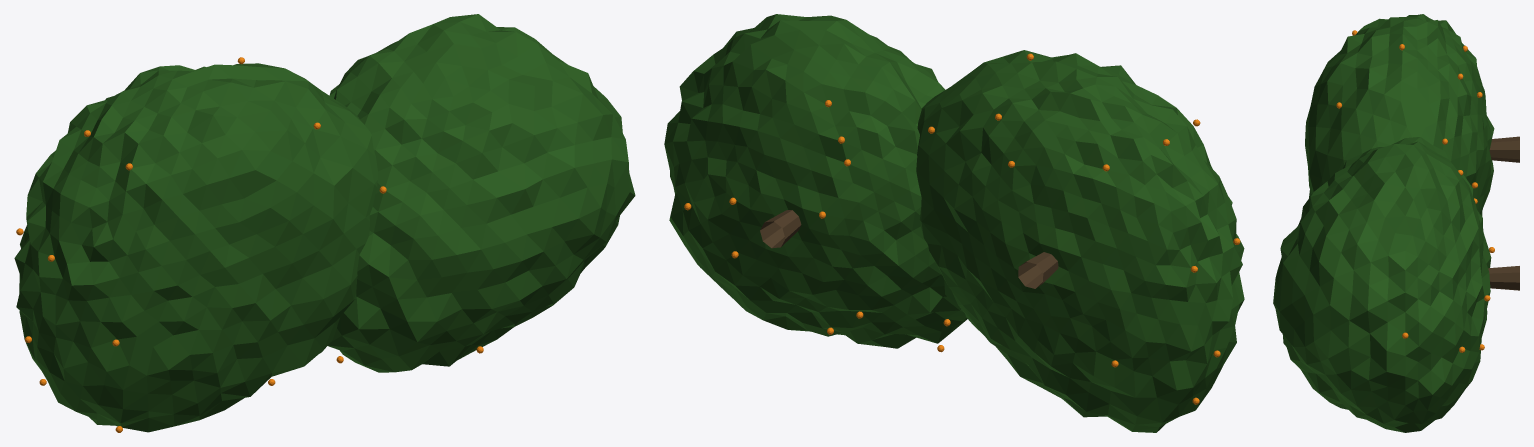
File: citrus_run2_c_fruit.obj
3 renders of one model, left to right at view 1: azimuth 30°, elevation 25°; view 2: azimuth 150°, elevation 25°; view 3: azimuth 270°, elevation 25°, orthographic. The views are drawn at different scales.
Visible parts, largest first — view 1: canopy, fruit; view 2: canopy, trunk, fruit; view 3: canopy, trunk, fruit.
Part boxes in pixels (<box>): canopy: <box>14,14,635,432</box>; fruit: <box>16,57,483,432</box>; canopy: <box>664,14,1244,432</box>; trunk: <box>760,210,1058,288</box>; fruit: <box>684,53,1240,404</box>; canopy: <box>1273,14,1494,432</box>; trunk: <box>1488,136,1519,290</box>; fruit: <box>1336,30,1494,352</box>.
Bounding box in the file's own units: 6.71 × 3.83 × 2.87.
